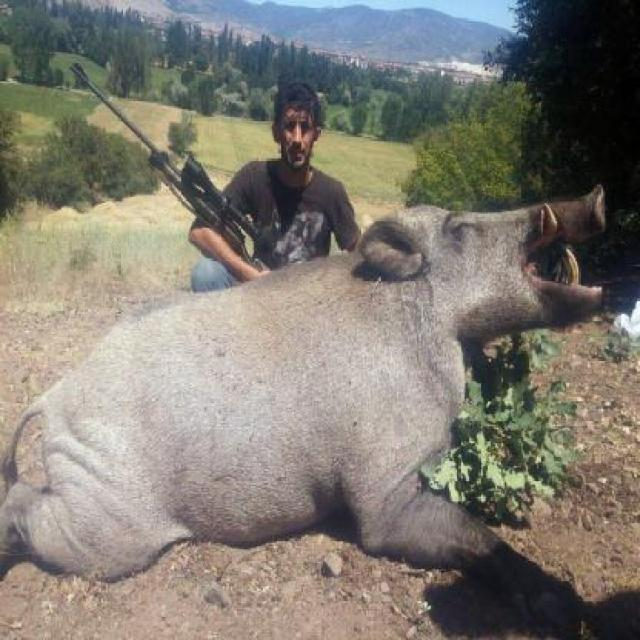wildboar: (0, 170, 615, 638)
